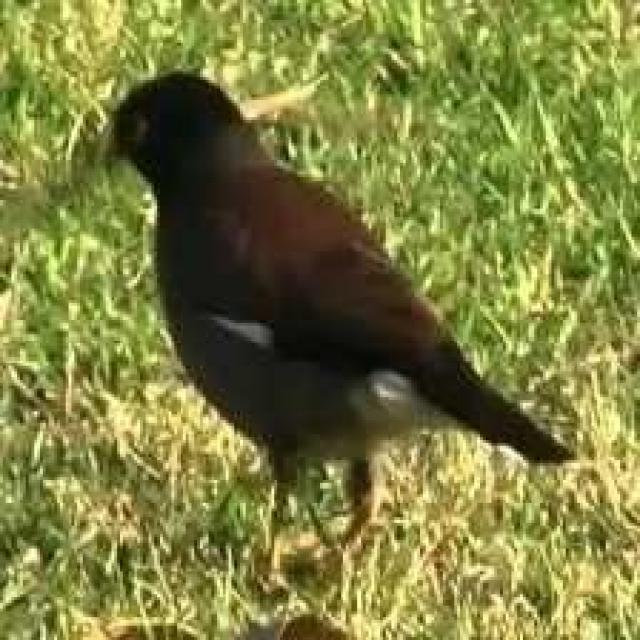bird: (96, 58, 578, 588)
